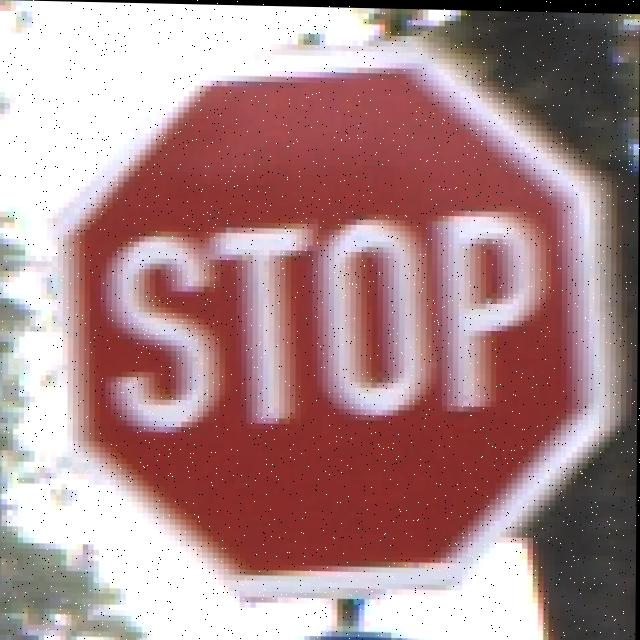stop: (51, 61, 617, 604)
